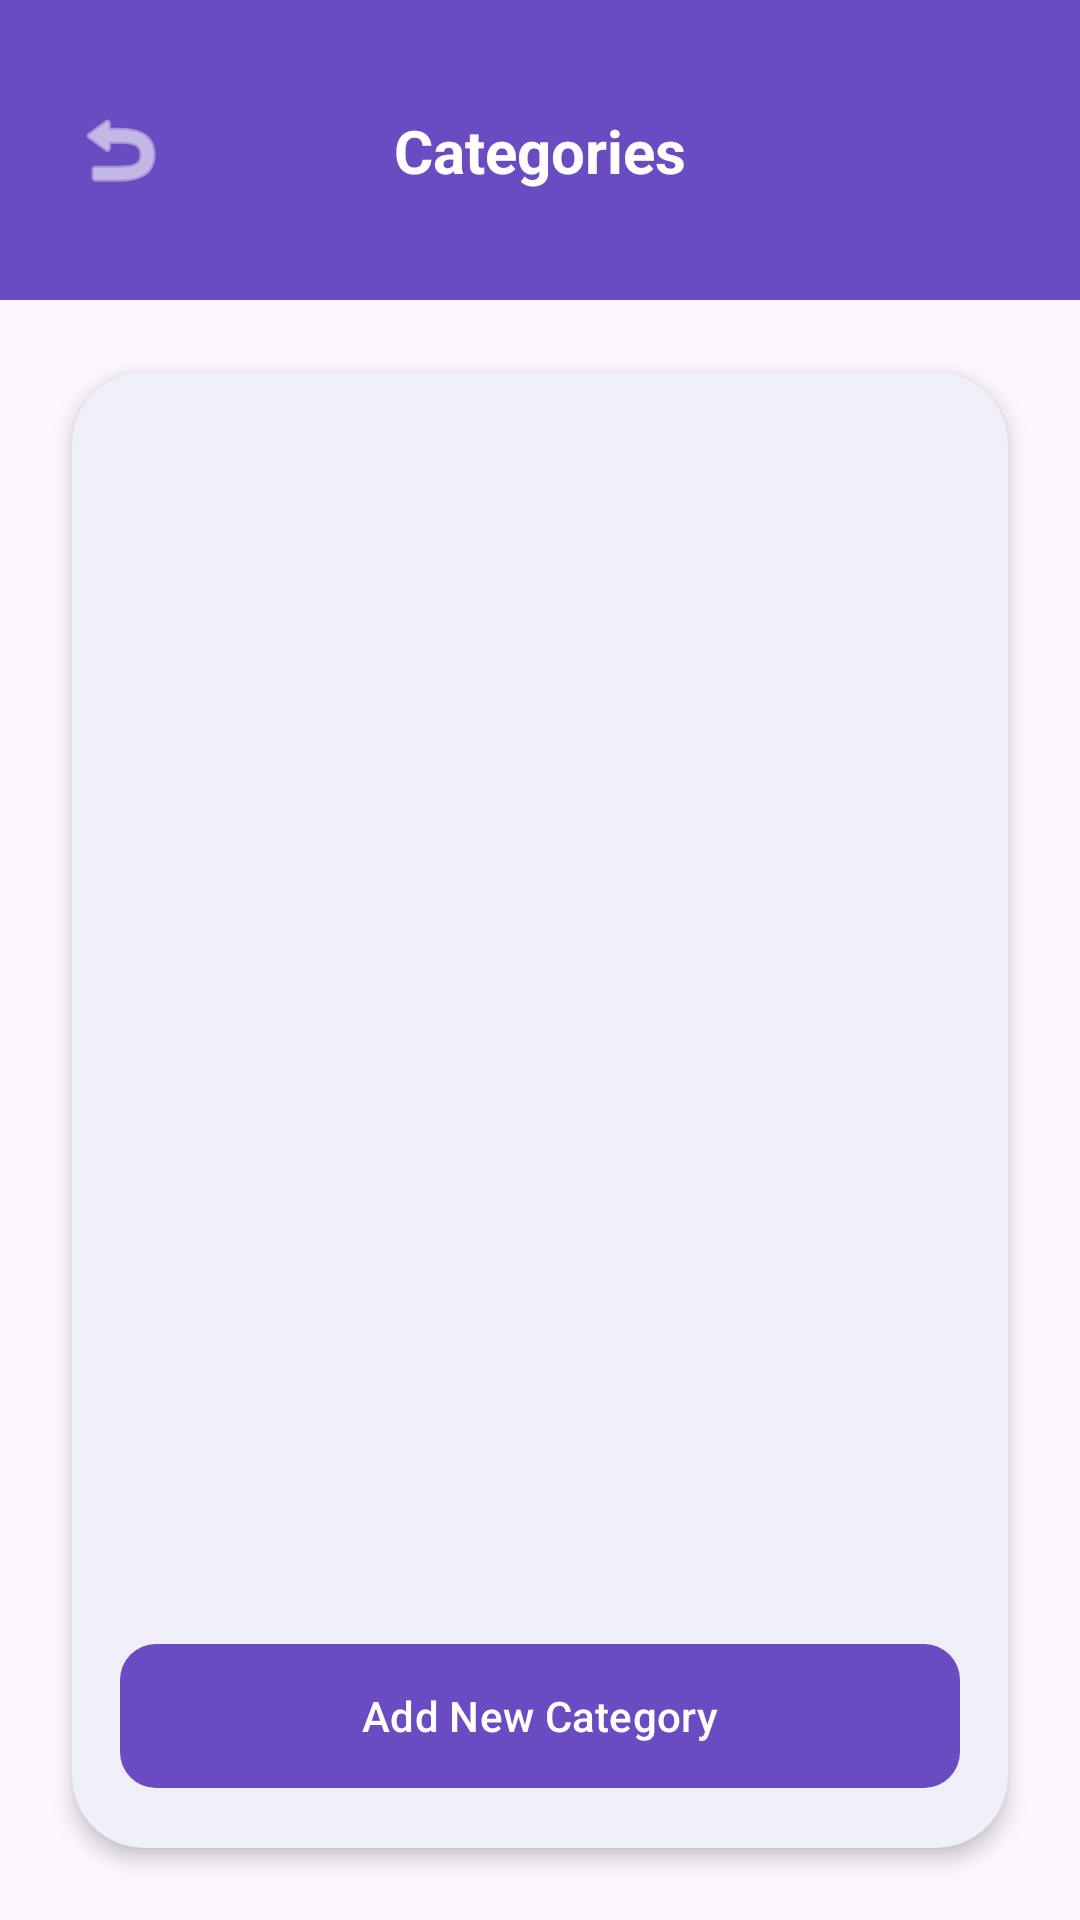

Where icons sit on this 1080x1920 app screen, as box=[x1, y1, x2, y2]:
revert: box=[87, 119, 156, 182]
